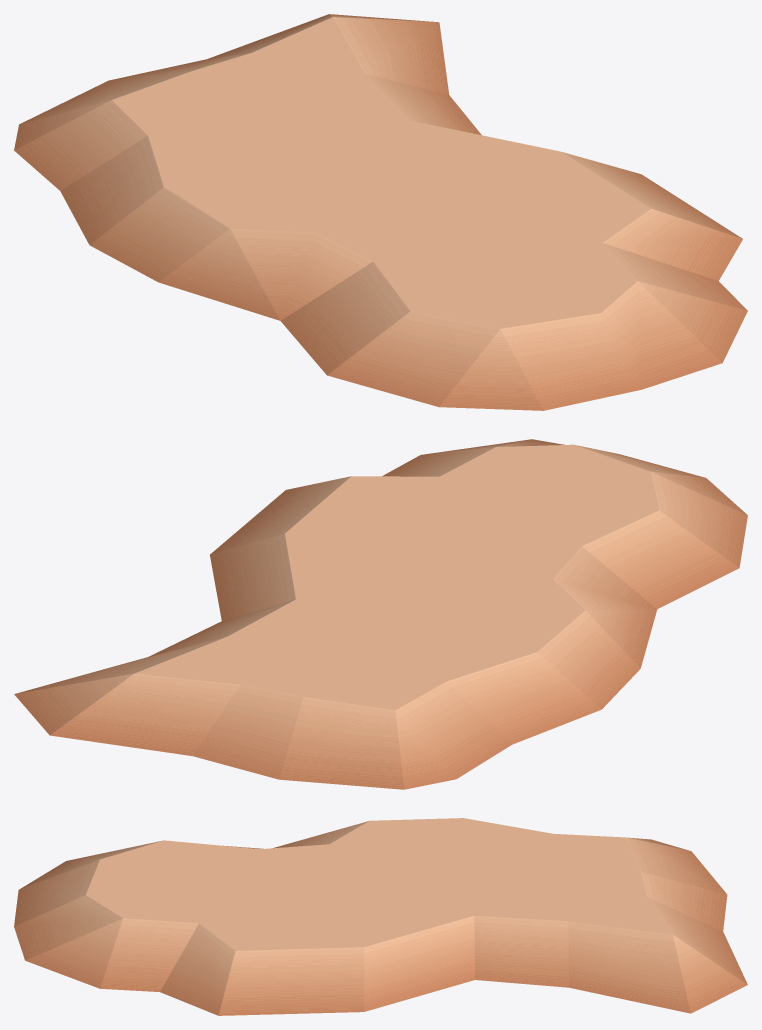
File: tortuga-chaman-60.glb
The picture shows the model from 3 angles, top to bottom: view 1: azimuth 30°, elevation 25°; view 2: azimuth 150°, elevation 25°; view 3: azimuth 270°, elevation 25°; orthographic projection. The views are drawn at different scales.
Parts seen in each view (by area): view 1: Tortuga.shaman; view 2: Tortuga.shaman; view 3: Tortuga.shaman.
Part boxes in pixels (x1=…): Tortuga.shaman: x1=14, y1=14, x2=747, y2=410; Tortuga.shaman: x1=14, y1=439, x2=747, y2=789; Tortuga.shaman: x1=14, y1=818, x2=747, y2=1015.
Size of the model in its own units: 67.43 by 5.5 by 109.
Materials: 1 (1 with a texture image).
